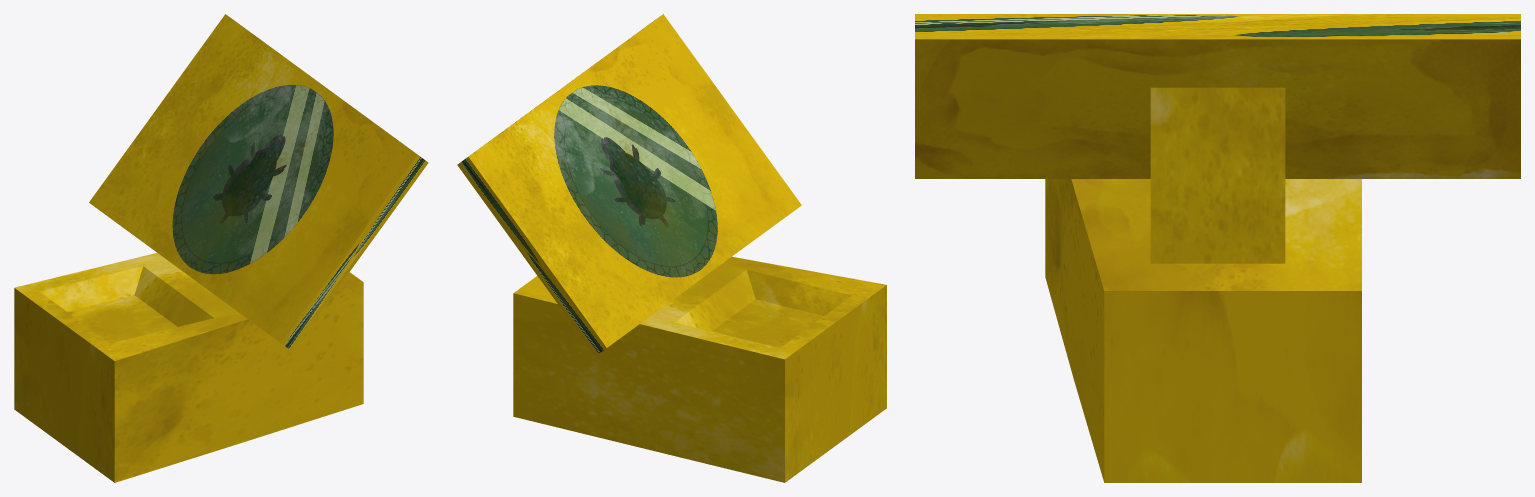
File: Activador_escarabajo.glb
3 renders of one model, left to right at view 1: azimuth 30°, elevation 25°; view 2: azimuth 150°, elevation 25°; view 3: azimuth 270°, elevation 25°, orthographic. The views are drawn at different scales.
Parts seen in each view (by area): view 1: N_activador.003; view 2: N_activador.003; view 3: N_activador.003.
Boxes of the visible parts, x1,y1,x2,y2 form: N_activador.003: [14, 14, 428, 482]; N_activador.003: [457, 14, 886, 482]; N_activador.003: [915, 14, 1520, 482].
Bounding box in the file's own units: 1.01 × 1.04 × 1.23.
1 material, 1 textured.
